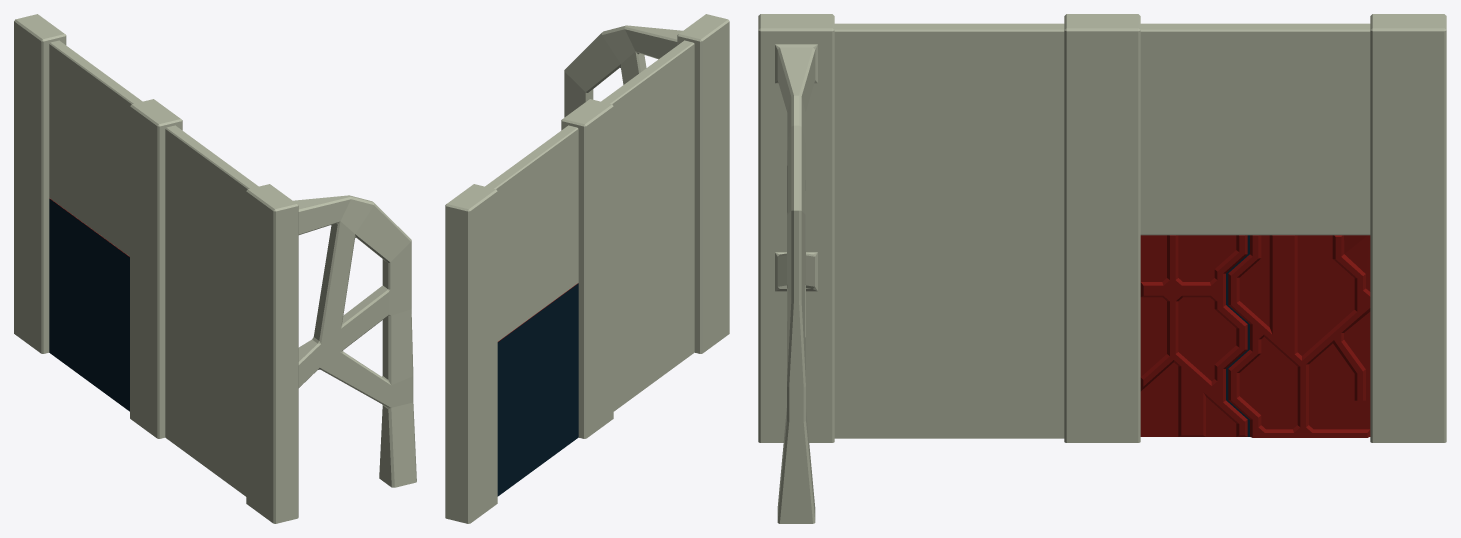
The model's file is Wallsections_1_06_2016.fbx.
The picture shows the model from 3 angles, left to right: view 1: azimuth 30°, elevation 25°; view 2: azimuth 150°, elevation 25°; view 3: azimuth 270°, elevation 25°; orthographic projection. The views are drawn at different scales.
Visible parts, largest first — view 1: Wall_Pillar, Wall_section, Wall_section_Top_Gate, Main Gate, Pillar.001, Pillar, Wall_Hidden; view 2: Wall_section, Pillar.001, Wall_Pillar, Wall_section_Top_Gate, Main Gate, Pillar; view 3: Wall_section, Wall_section_Top_Gate, Main Gate, Pillar.001, Pillar, Wall_Pillar, Wall_Hidden.
Boxes of the visible parts, x1,y1,x2,y2 form: Wall_Pillar: (246, 184, 411, 523); Wall_section: (165, 125, 258, 496); Wall_section_Top_Gate: (49, 40, 142, 256); Main Gate: (49, 198, 129, 411); Pillar.001: (14, 14, 66, 353); Pillar: (130, 99, 182, 438); Wall_Hidden: (320, 308, 416, 487); Wall_section: (601, 40, 694, 411); Pillar.001: (445, 184, 497, 523); Wall_Pillar: (564, 14, 729, 353); Wall_section_Top_Gate: (485, 125, 578, 341); Main Gate: (497, 283, 578, 496); Pillar: (561, 99, 613, 438); Wall_section: (834, 23, 1064, 438); Wall_section_Top_Gate: (1140, 23, 1370, 235); Main Gate: (1140, 235, 1370, 437); Pillar.001: (1370, 14, 1446, 442); Pillar: (1064, 14, 1140, 442); Wall_Pillar: (758, 14, 834, 442); Wall_Hidden: (777, 286, 815, 523).
Size of the model in its own units: 2025 by 4030 by 6075.
